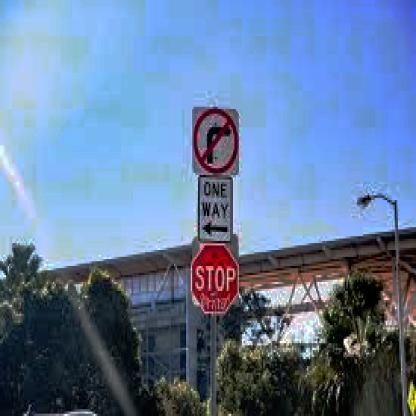No right turn: (189, 102, 239, 174)
